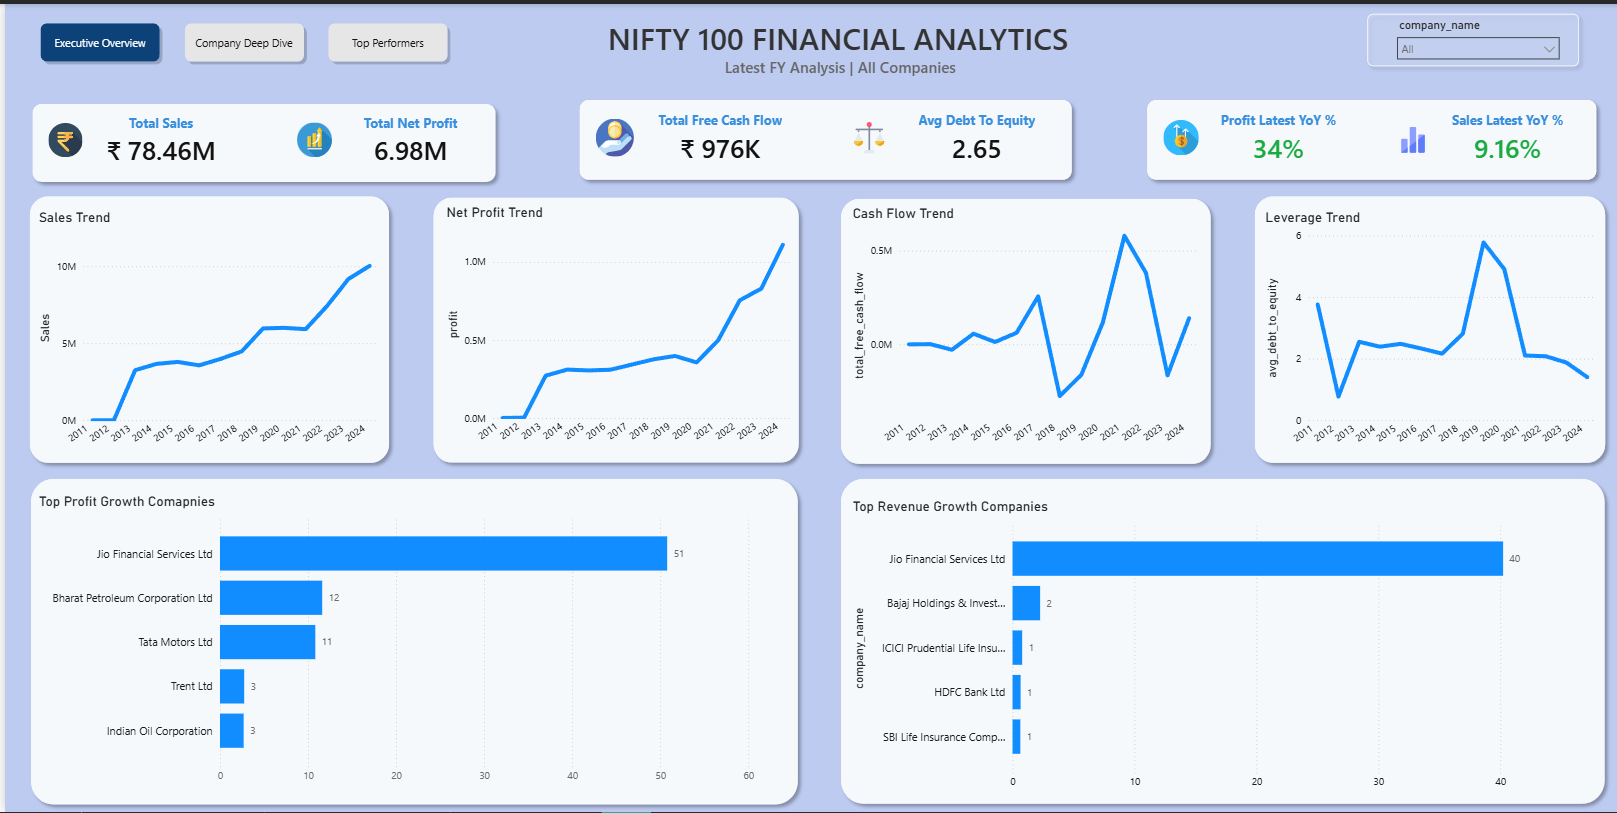

Layout of this report page (visuals, bound fields, positions):
{"tool":"powerbi","page":{"name":"Executive Overview","canvas":[2000,1000],"ordinal":0},"visuals":[{"type":"shape","box":[23.9,577.7,966.3,420.9],"z":0},{"type":"shape","box":[1024.5,578.8,962.3,419.8],"z":1000},{"type":"shape","box":[1404.4,109.4,573.4,116.4],"z":2000},{"type":"shape","box":[1675.9,3.5,279.9,82.9],"z":3000},{"type":"shape","box":[702.2,109.4,626.3,116.4],"z":4000},{"type":"shape","box":[24.7,114.7,591,114.7],"z":5000},{"type":"shape","box":[21.8,229.3,462.3,347.7],"z":6000},{"type":"shape","box":[520.6,229.7,469.6,345.8],"z":7000},{"type":"slicer","fields":{"Values":["dim_company.company_name"]},"box":[1712.2,12.1,221.1,65.7],"z":8000},{"type":"shape","box":[1536.2,229.3,451.4,347.7],"z":9000},{"type":"shape","box":[1024.8,231.2,475.1,345.8],"z":10000},{"type":"lineChart","title":"Net Profit Trend","fields":{"Y":["Sum(fact_profit_loss.net_profit)"],"Category":["dim_year.fiscal_year"]},"box":[540.6,247.9,436.8,313.1],"z":11000},{"type":"lineChart","title":"Sales Trend","fields":{"Category":["dim_year.fiscal_year"],"Y":["Sum(fact_profit_loss.sales)"]},"box":[37.5,253.3,429.6,309.6],"z":12000},{"type":"cardVisual","title":"Total Sales","fields":{"Data":["KPI_measures.total_sales"]},"box":[24.7,116.4,282.3,104.1],"z":13000},{"type":"cardVisual","fields":{"Data":["KPI_measures.total_net_profit"]},"box":[331.7,116.4,284.1,104.1],"z":14000},{"type":"cardVisual","fields":{"Data":["KPI_measures.total_free_cash_flow"]},"box":[702.2,109.4,307,111.2],"z":15000},{"type":"cardVisual","fields":{"Data":["KPI_measures.avg_debt_to_equity"]},"box":[1016.2,109.4,312.3,111.2],"z":16000},{"type":"cardVisual","fields":{"Data":["KPI_measures.Profit YoY %"]},"box":[1404.4,109.4,287.6,111.2],"z":17000},{"type":"cardVisual","fields":{"Data":["KPI_measures.Sales YoY %"]},"box":[1692,109.4,280.5,111.2],"z":18000},{"type":"lineChart","title":"Cash Flow Trend","fields":{"Category":["dim_year.fiscal_year"],"Y":["KPI_measures.total_free_cash_flow"]},"box":[1043,249.4,436.8,313.1],"z":19000},{"type":"lineChart","title":"Leverage Trend","fields":{"Category":["dim_year.fiscal_year"],"Y":["KPI_measures.avg_debt_to_equity"]},"box":[1554.4,253,418.6,309.4],"z":20000},{"type":"textbox","box":[741.3,11.9,634,75],"z":21000},{"type":"barChart","title":"Top Profit Growth Comapnies","fields":{"Y":["KPI_measures.Profit Latest YoY %"],"Category":["dim_company.company_name"]},"box":[37.5,605,903.2,368.1],"z":22000},{"type":"barChart","title":"Top Revenue Growth Companies","fields":{"Category":["dim_company.company_name"],"Y":["KPI_measures.Sales Latest YoY %"]},"box":[1043.2,610.8,929.9,369.4],"z":23000},{"type":"pageNavigator","box":[38,19,514.9,58.7],"z":24000},{"type":"cardVisual","fields":{"Data":["KPI_measures.subtitle"]},"box":[855.5,44.3,356.2,64.8],"z":25000}]}

Visuals, with their boxes in screenshot pixels (x1, y1, x2, y2), scaled from the page's 2000x1000 canvas onto the 1617x813 screenshot:
shape: {"x1": 19, "y1": 470, "x2": 801, "y2": 812}
shape: {"x1": 828, "y1": 471, "x2": 1606, "y2": 812}
shape: {"x1": 1135, "y1": 89, "x2": 1599, "y2": 184}
shape: {"x1": 1355, "y1": 3, "x2": 1581, "y2": 70}
shape: {"x1": 568, "y1": 89, "x2": 1074, "y2": 184}
shape: {"x1": 20, "y1": 93, "x2": 498, "y2": 187}
shape: {"x1": 18, "y1": 186, "x2": 391, "y2": 469}
shape: {"x1": 421, "y1": 187, "x2": 801, "y2": 468}
slicer - dim_company.company_name: {"x1": 1384, "y1": 10, "x2": 1563, "y2": 63}
shape: {"x1": 1242, "y1": 186, "x2": 1607, "y2": 469}
shape: {"x1": 829, "y1": 188, "x2": 1213, "y2": 469}
"Net Profit Trend" lineChart: {"x1": 437, "y1": 202, "x2": 790, "y2": 456}
"Sales Trend" lineChart: {"x1": 30, "y1": 206, "x2": 378, "y2": 458}
"Total Sales" cardVisual: {"x1": 20, "y1": 95, "x2": 248, "y2": 179}
cardVisual - KPI_measures.total_net_profit: {"x1": 268, "y1": 95, "x2": 498, "y2": 179}
cardVisual - KPI_measures.total_free_cash_flow: {"x1": 568, "y1": 89, "x2": 816, "y2": 179}
cardVisual - KPI_measures.avg_debt_to_equity: {"x1": 822, "y1": 89, "x2": 1074, "y2": 179}
cardVisual - KPI_measures.Profit YoY %: {"x1": 1135, "y1": 89, "x2": 1368, "y2": 179}
cardVisual - KPI_measures.Sales YoY %: {"x1": 1368, "y1": 89, "x2": 1595, "y2": 179}
"Cash Flow Trend" lineChart: {"x1": 843, "y1": 203, "x2": 1196, "y2": 457}
"Leverage Trend" lineChart: {"x1": 1257, "y1": 206, "x2": 1595, "y2": 457}
textbox: {"x1": 599, "y1": 10, "x2": 1112, "y2": 71}
"Top Profit Growth Comapnies" barChart: {"x1": 30, "y1": 492, "x2": 761, "y2": 791}
"Top Revenue Growth Companies" barChart: {"x1": 843, "y1": 497, "x2": 1595, "y2": 797}
pageNavigator: {"x1": 31, "y1": 15, "x2": 447, "y2": 63}
cardVisual - KPI_measures.subtitle: {"x1": 692, "y1": 36, "x2": 980, "y2": 89}
